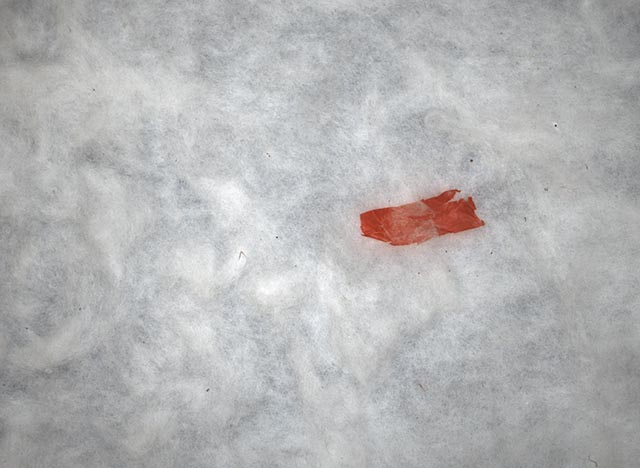plastic film: (359, 188, 487, 247)
